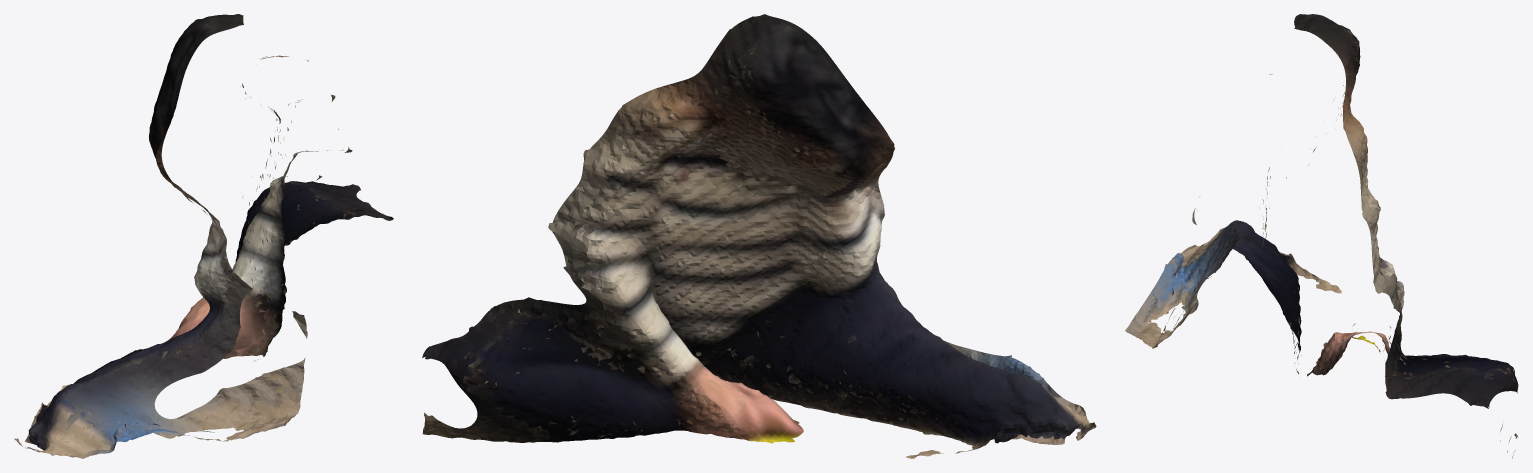
The picture shows the model from 3 angles, left to right: view 1: azimuth 30°, elevation 25°; view 2: azimuth 150°, elevation 25°; view 3: azimuth 270°, elevation 25°; orthographic projection. The views are drawn at different scales.
Size of the model in its own units: 0.9474 by 0.6622 by 0.6951.
Materials: 1 (1 with a texture image).
